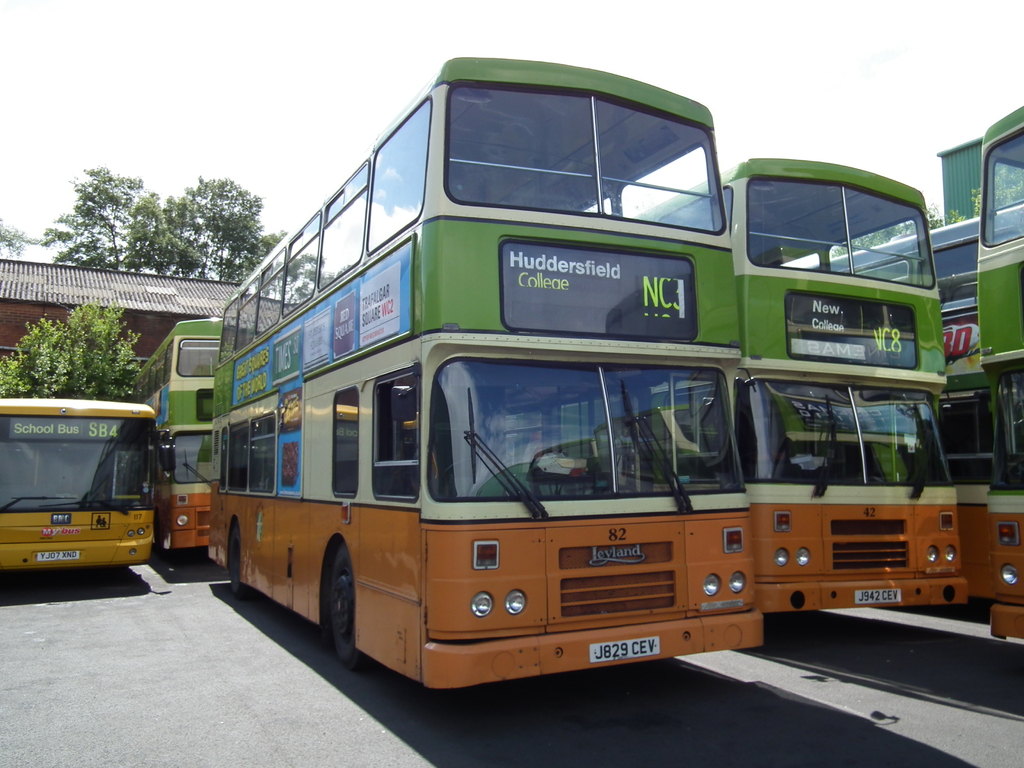Bus: (1, 55, 1022, 692)
